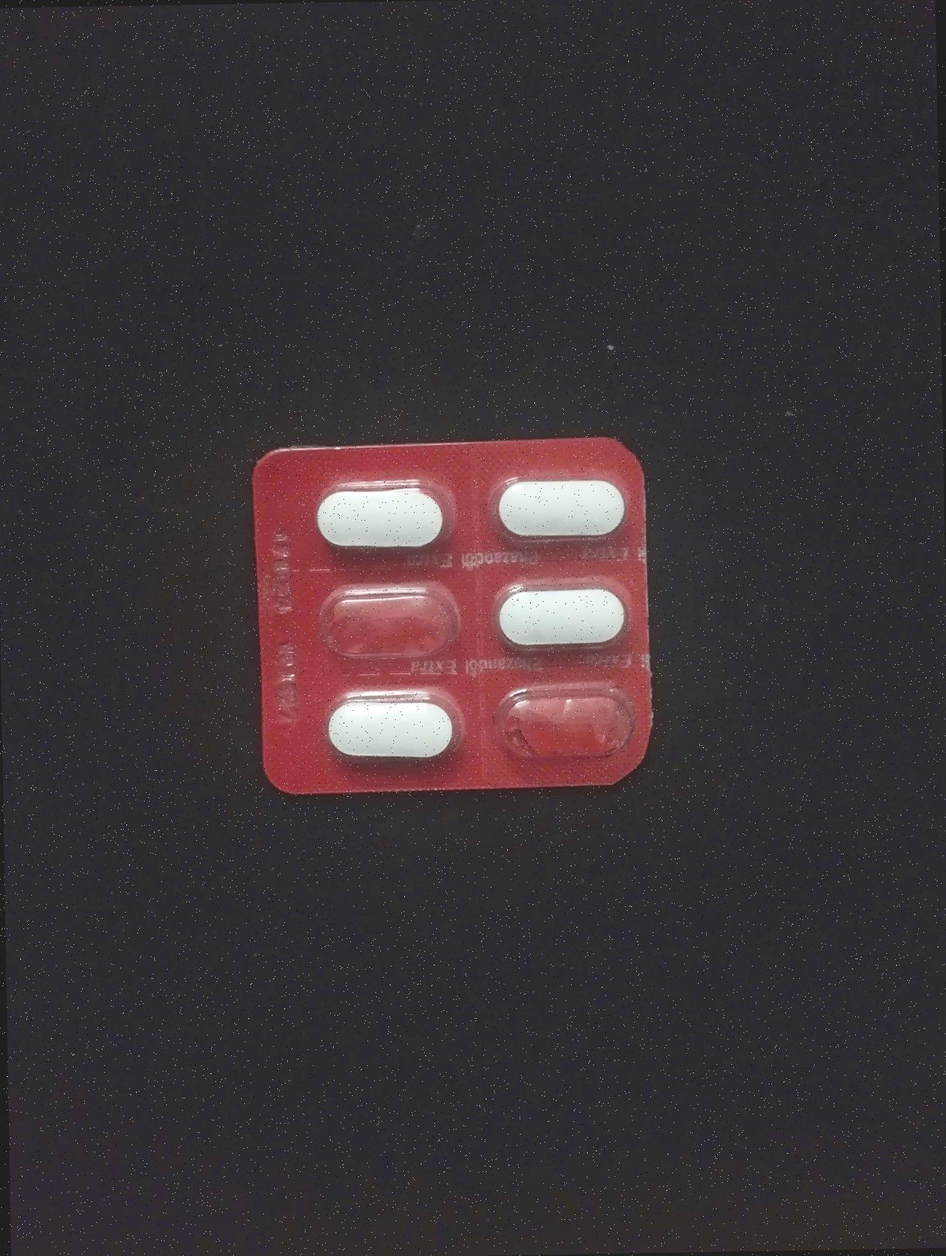Empty: (492, 682, 637, 765), (313, 583, 454, 664)
Full: (490, 581, 631, 657), (496, 472, 635, 549), (314, 477, 452, 554), (315, 691, 456, 764)
